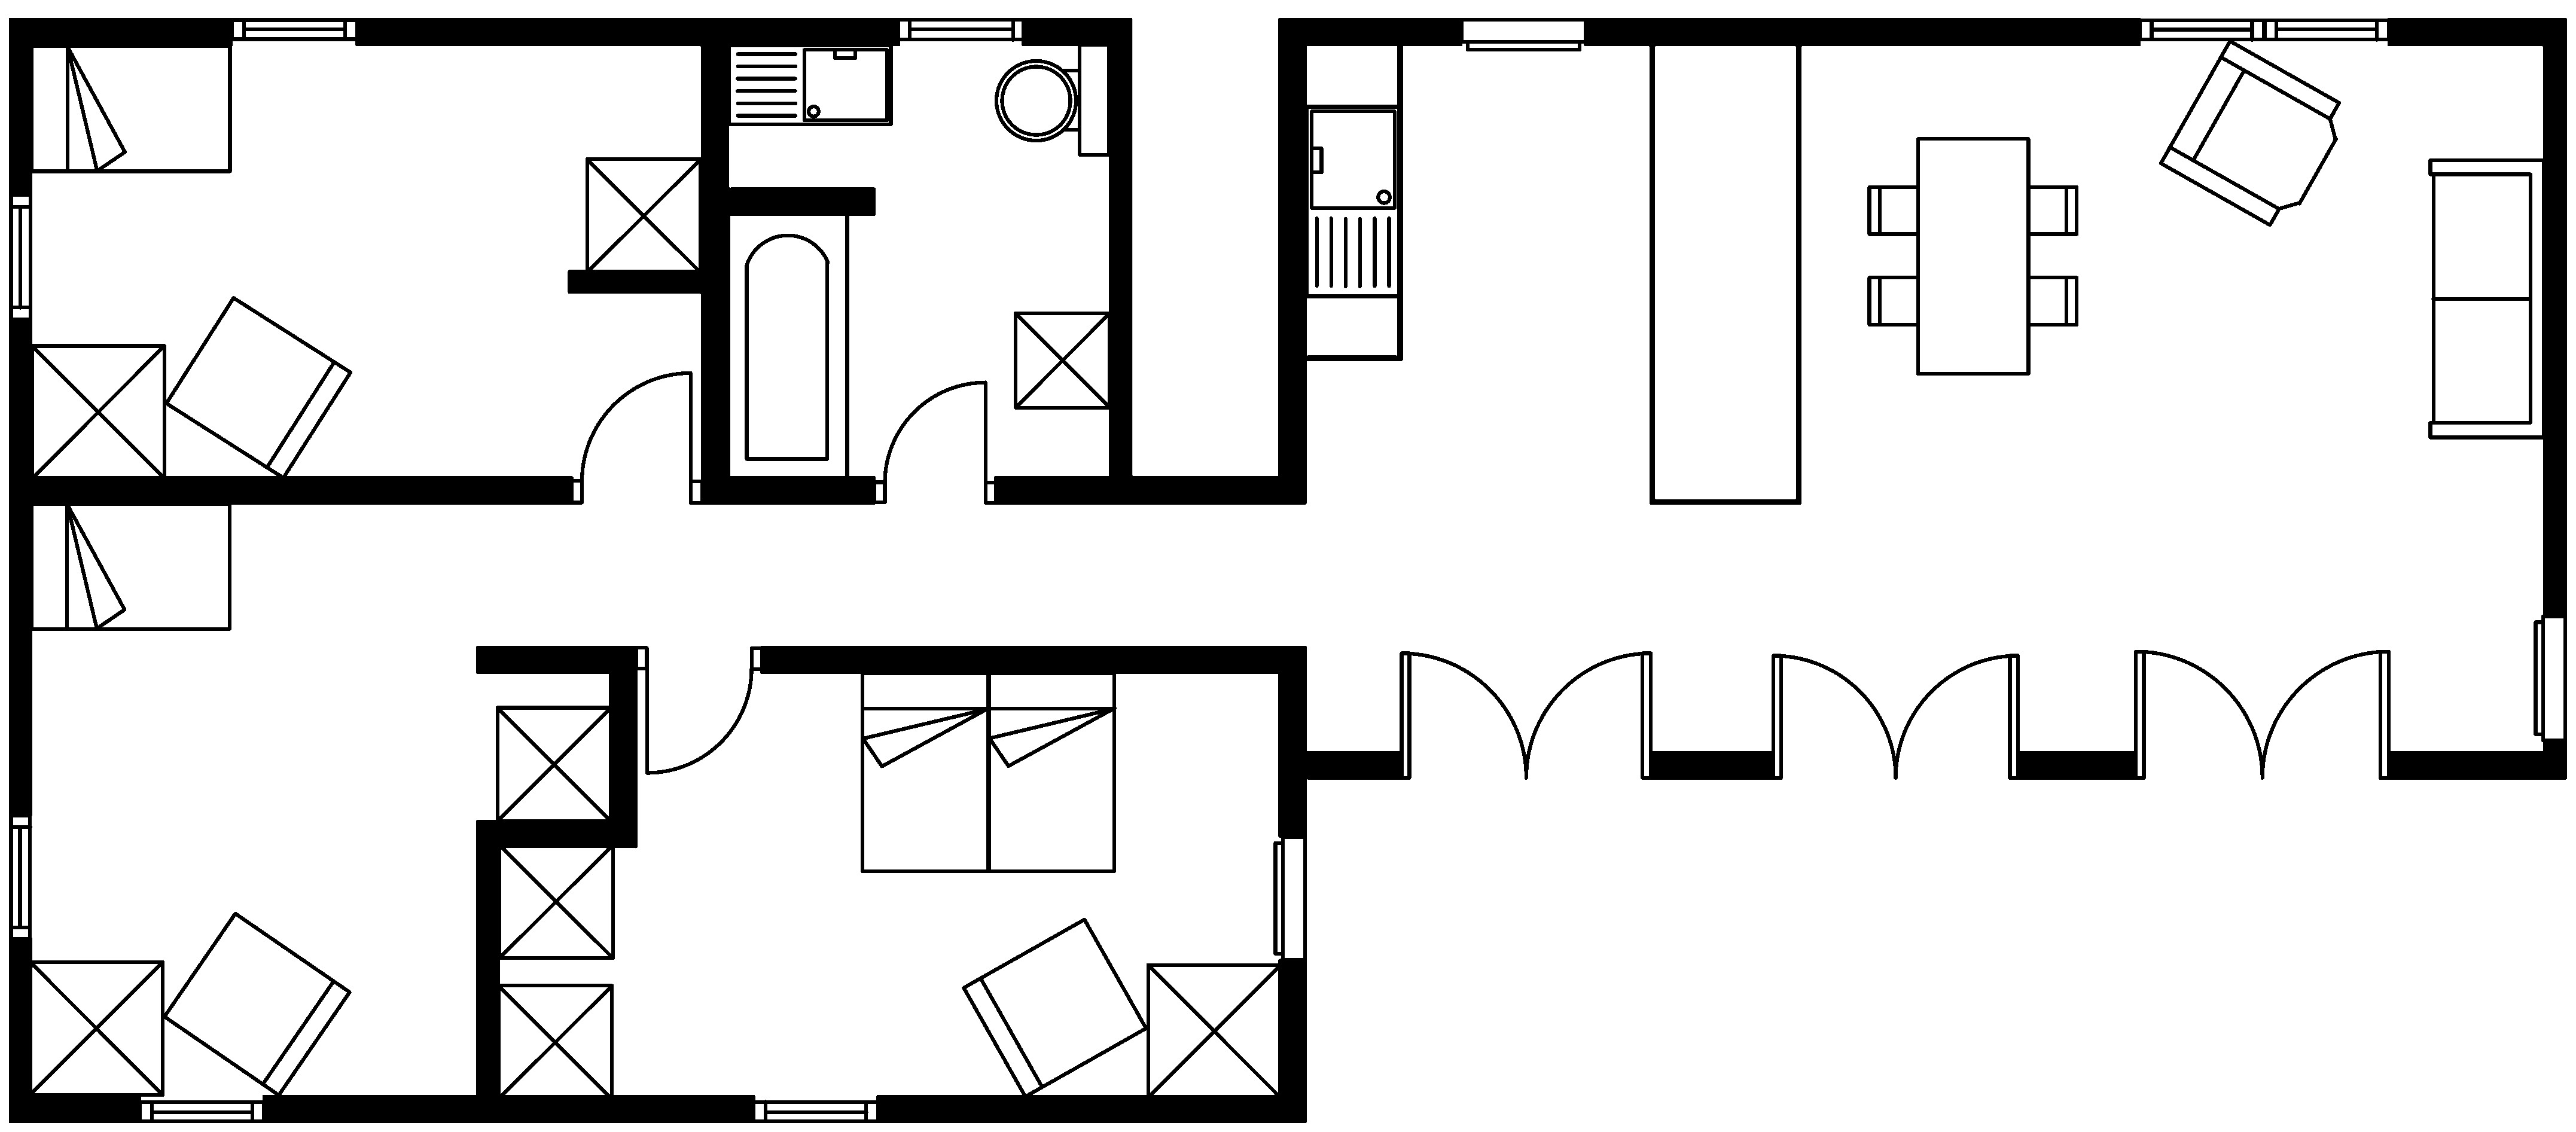armchair: (2159, 38, 2341, 227)
bed: (30, 43, 232, 174), (859, 670, 991, 872), (986, 670, 1117, 872), (28, 501, 232, 631)
coffee_table: (26, 959, 164, 1097), (1145, 963, 1283, 1099), (30, 343, 166, 480), (494, 982, 614, 1101), (494, 705, 613, 823), (496, 841, 614, 959), (585, 156, 702, 274), (1012, 311, 1112, 409)
dining_table: (1866, 136, 2078, 376)
large_sink: (994, 41, 1111, 156)
large_sofa: (2428, 158, 2546, 439)
sink: (1304, 104, 1401, 297), (726, 43, 894, 127)
small_sofa: (161, 910, 352, 1097), (163, 294, 352, 480), (961, 917, 1148, 1099)
tub: (726, 210, 849, 483)
